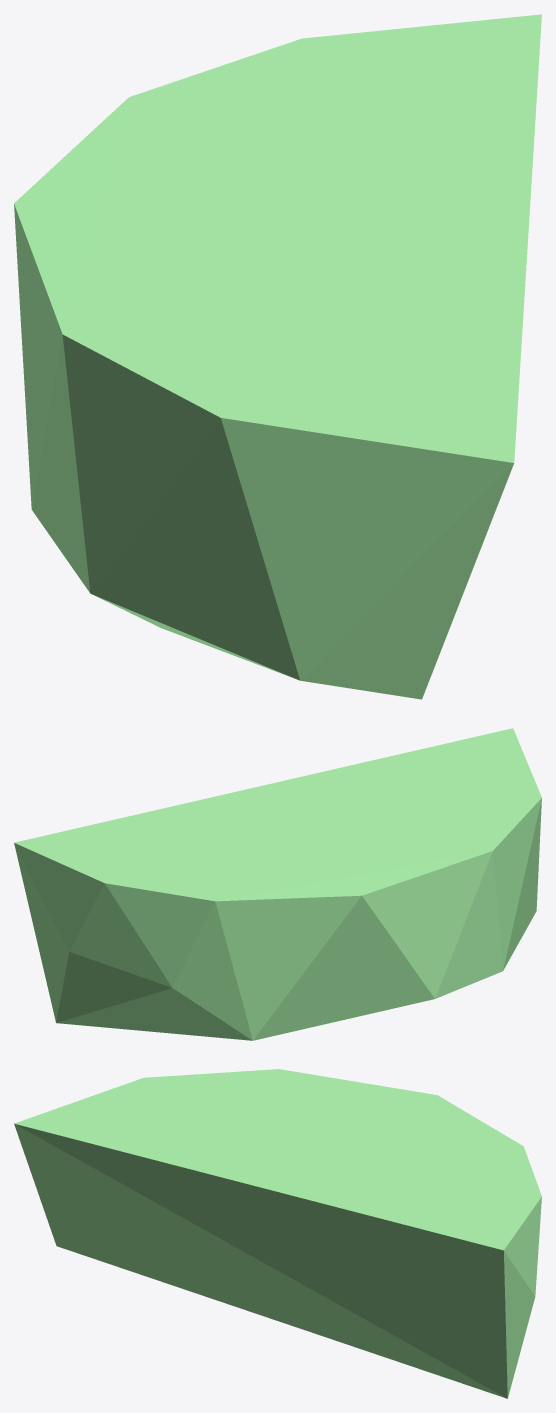
The model's file is exported_panda_link7_resp_coll_13.dae.
The picture shows the model from 3 angles, top to bottom: view 1: azimuth 30°, elevation 25°; view 2: azimuth 150°, elevation 25°; view 3: azimuth 270°, elevation 25°; orthographic projection. The views are drawn at different scales.
Visible parts, largest first — view 1: node; view 2: node; view 3: node.
Boxes of the visible parts, box(x1,y1,x2,y2) form: node: box(14, 14, 541, 699); node: box(14, 728, 541, 1040); node: box(14, 1069, 541, 1398).
Size of the model in its own units: 0.0723 by 0.0316 by 0.0889.
